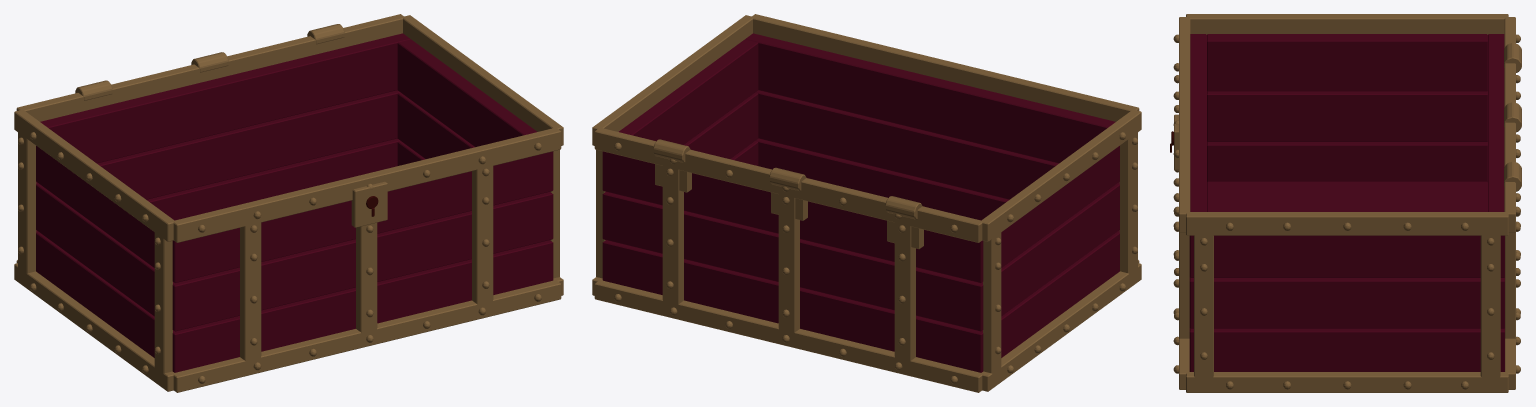
Rendered from Chest_Base.fbx.
3 views of the same model, side by side, from view 1: azimuth 30°, elevation 25°; view 2: azimuth 150°, elevation 25°; view 3: azimuth 270°, elevation 25° (orthographic). The views are drawn at different scales.
Visible parts, largest first — view 1: Cofre_Base; view 2: Cofre_Base; view 3: Cofre_Base.
Part boxes in pixels (x1,y1,x2,y2): Cofre_Base: (14, 14, 563, 392); Cofre_Base: (592, 14, 1141, 392); Cofre_Base: (1170, 14, 1521, 392).
Bounding box in the file's own units: 342 × 141 × 245.
